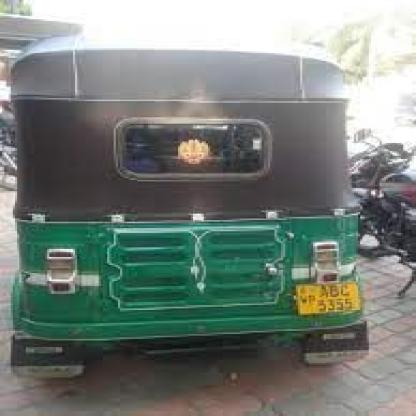number plate: (292, 281, 360, 316)
three wheeler back: (0, 27, 373, 379)
